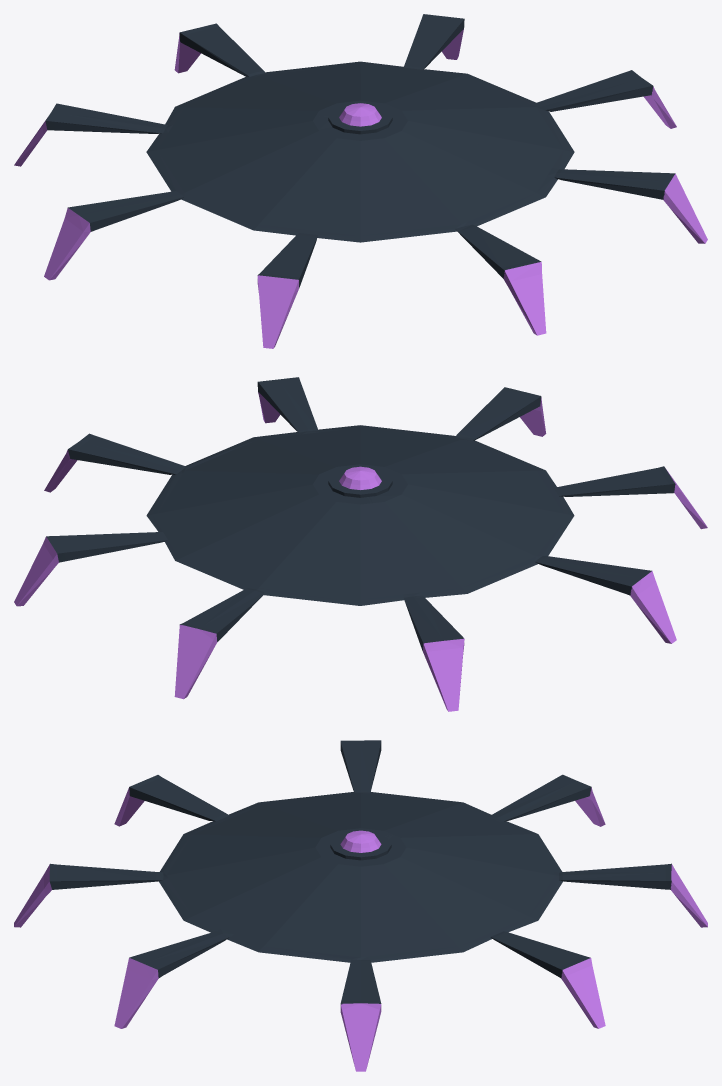
The model's file is Spider_Plant_000009.obj.
The picture shows the model from 3 angles, top to bottom: view 1: azimuth 30°, elevation 25°; view 2: azimuth 150°, elevation 25°; view 3: azimuth 270°, elevation 25°; orthographic projection. The views are drawn at different scales.
Visible parts, largest first — view 1: Circle_Circle.001; view 2: Circle_Circle.001; view 3: Circle_Circle.001.
Part boxes in pixels (left/top/right/bottom): Circle_Circle.001: left=14, top=14, right=707, bottom=348; Circle_Circle.001: left=14, top=377, right=707, bottom=711; Circle_Circle.001: left=14, top=740, right=707, bottom=1071.
Size of the model in its own units: 3.39 by 0.4915 by 3.39.
